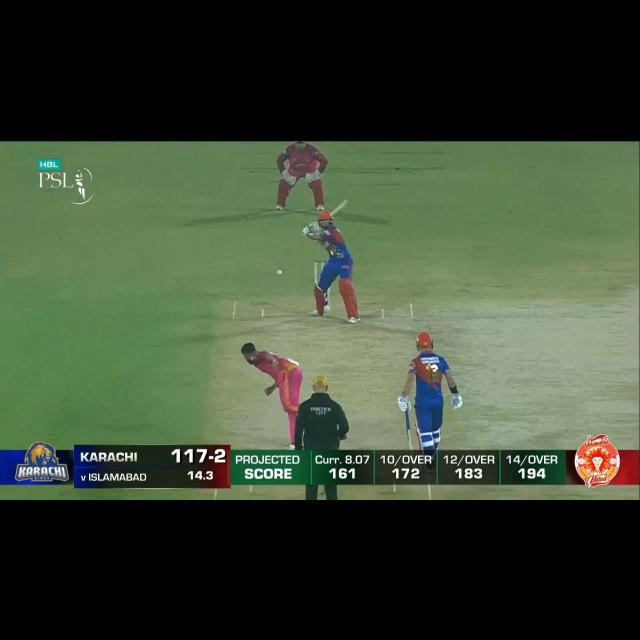bat: (330, 200, 349, 216), (405, 429, 415, 450)
toe: (342, 200, 348, 204)
